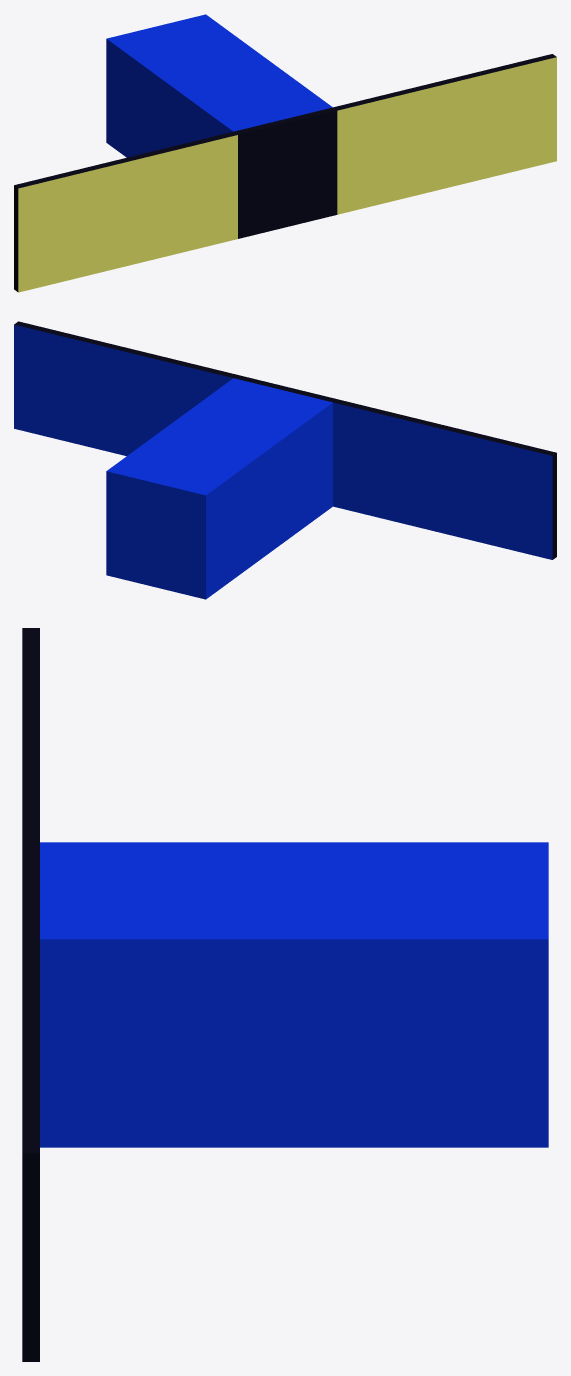
The model's file is GenericSatellite.glb.
3 views of the same model, one above another, from view 1: azimuth 30°, elevation 25°; view 2: azimuth 150°, elevation 25°; view 3: azimuth 270°, elevation 25° (orthographic). The views are drawn at different scales.
Parts seen in each view (by area): view 1: Cube; view 2: Cube; view 3: Cube.
Boxes of the visible parts, <box> form: Cube: <box>14,14,556,292</box>; Cube: <box>14,321,556,599</box>; Cube: <box>22,628,548,1361</box>.
Bounding box in the file's own units: 0.9966 × 0.1842 × 0.4216.
